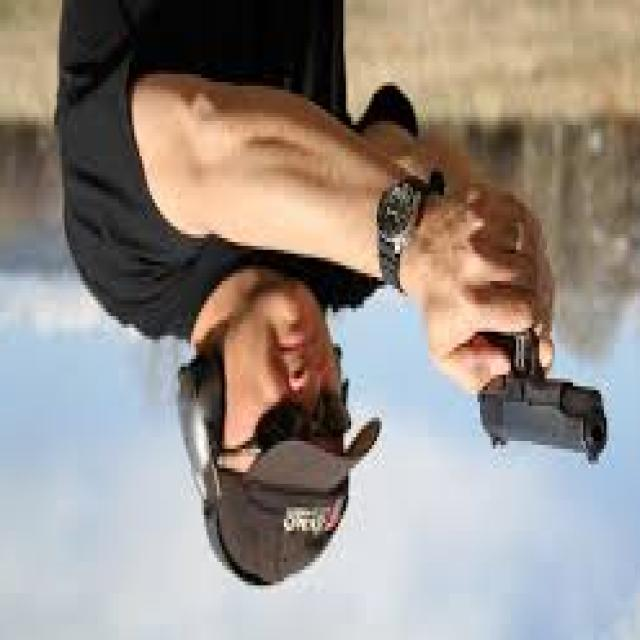gun: (416, 231, 624, 507)
